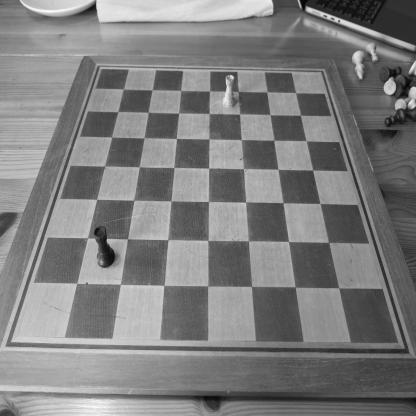black-pawn: (384, 108, 406, 128)
black-rook: (93, 225, 116, 269)
white-bishop: (351, 49, 366, 81)
white-pawn: (366, 42, 378, 63)
white-rook: (222, 74, 236, 108)
